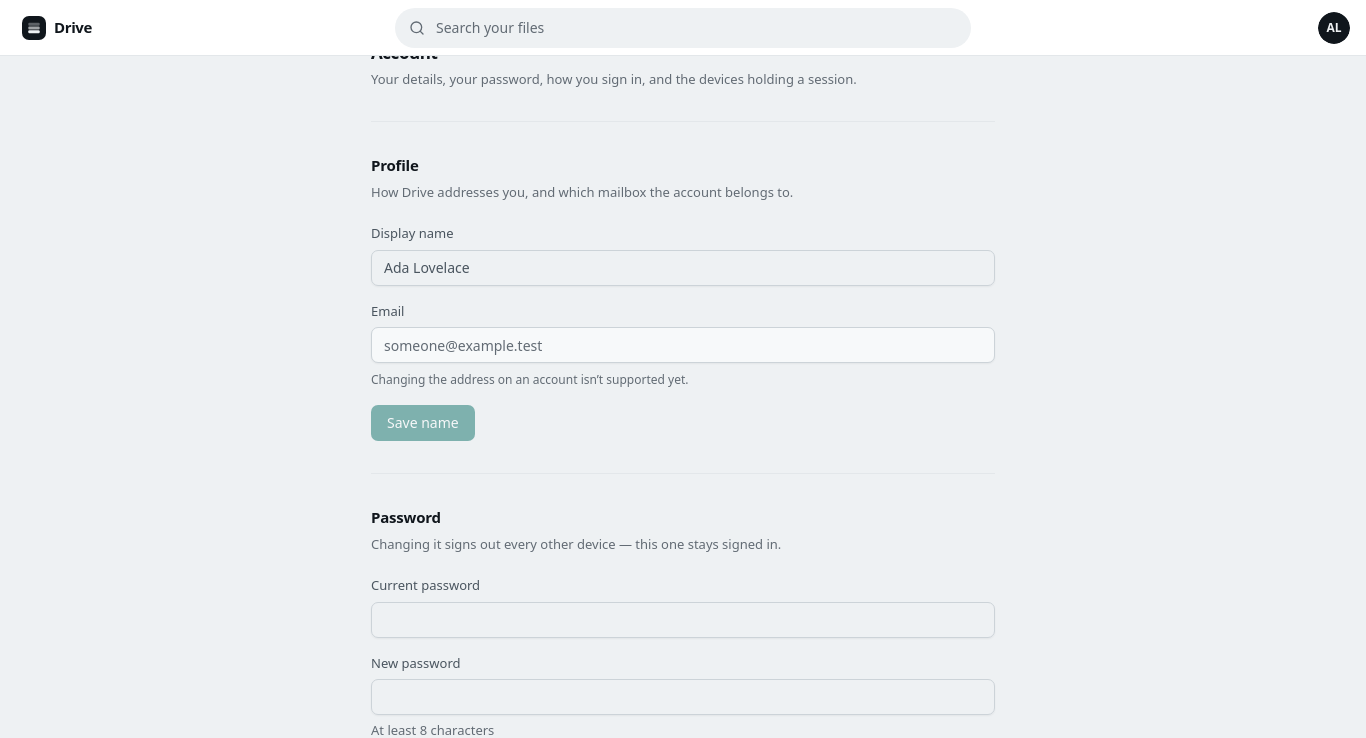
Test: the password section › empties the form and re-reads the sessions the change has just ended
Type "old-passphrase" into the password field labelled "Current password" at (683, 620), box x1=371 y1=602 x2=995 y2=638
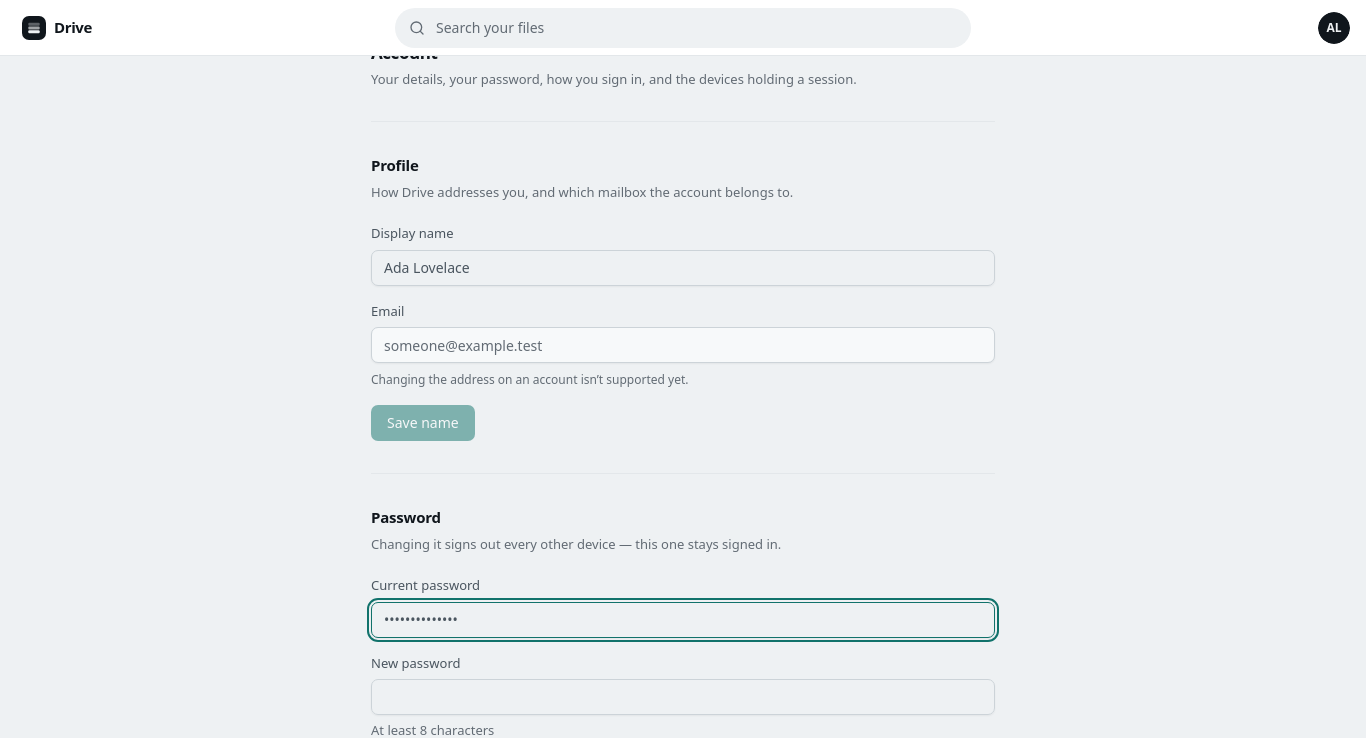
Type "new-passphrase" into the password field labelled "New password" at (683, 697), box x1=371 y1=679 x2=995 y2=715
(page scrolled)
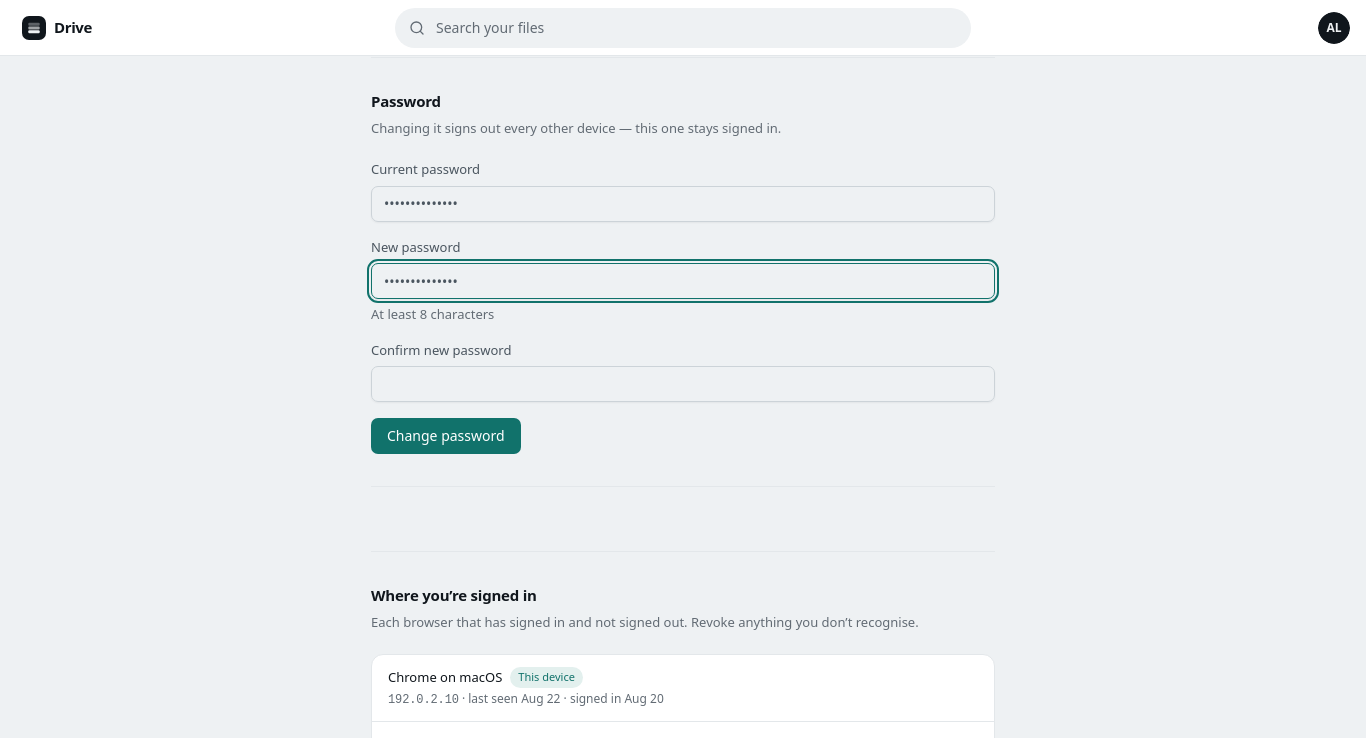
Type "new-passphrase" into the password field labelled "Confirm new password" at (683, 384), box x1=371 y1=366 x2=995 y2=402
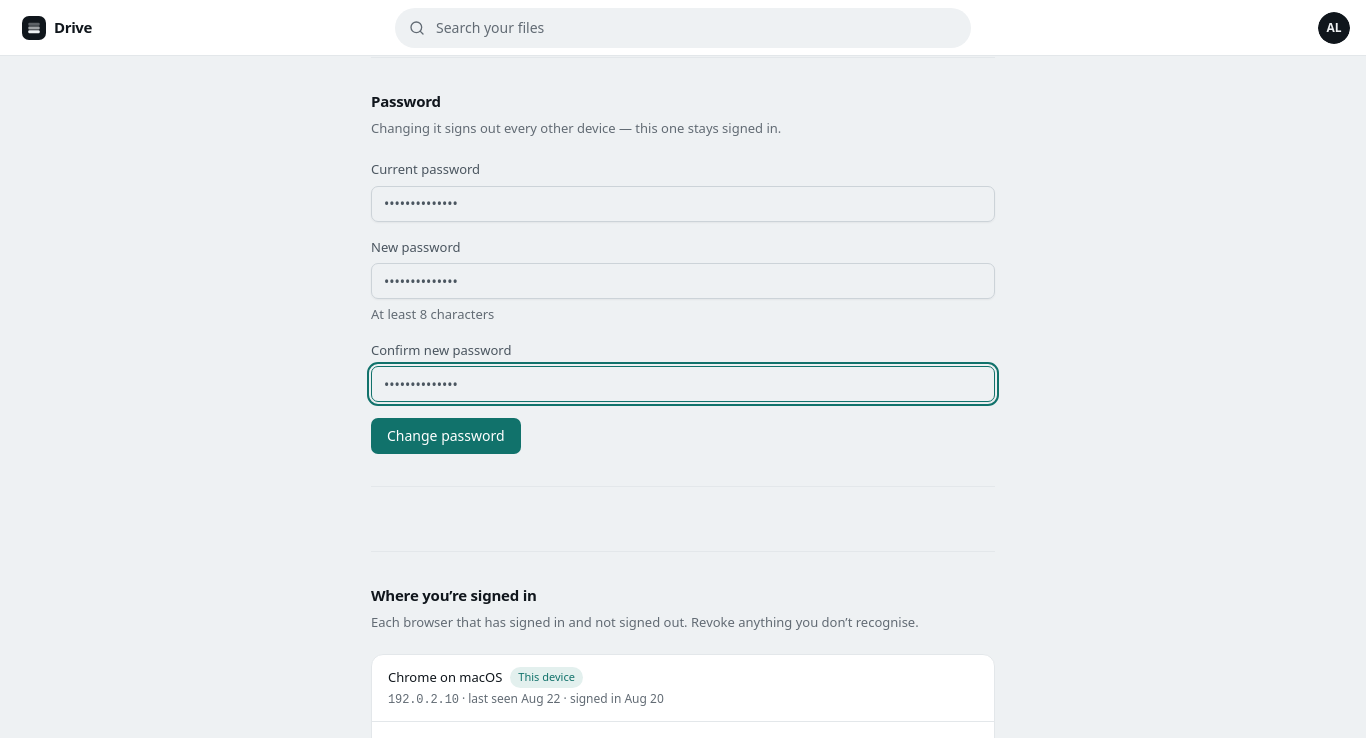
Click the button "Change password" at (446, 436), box x1=371 y1=418 x2=521 y2=454
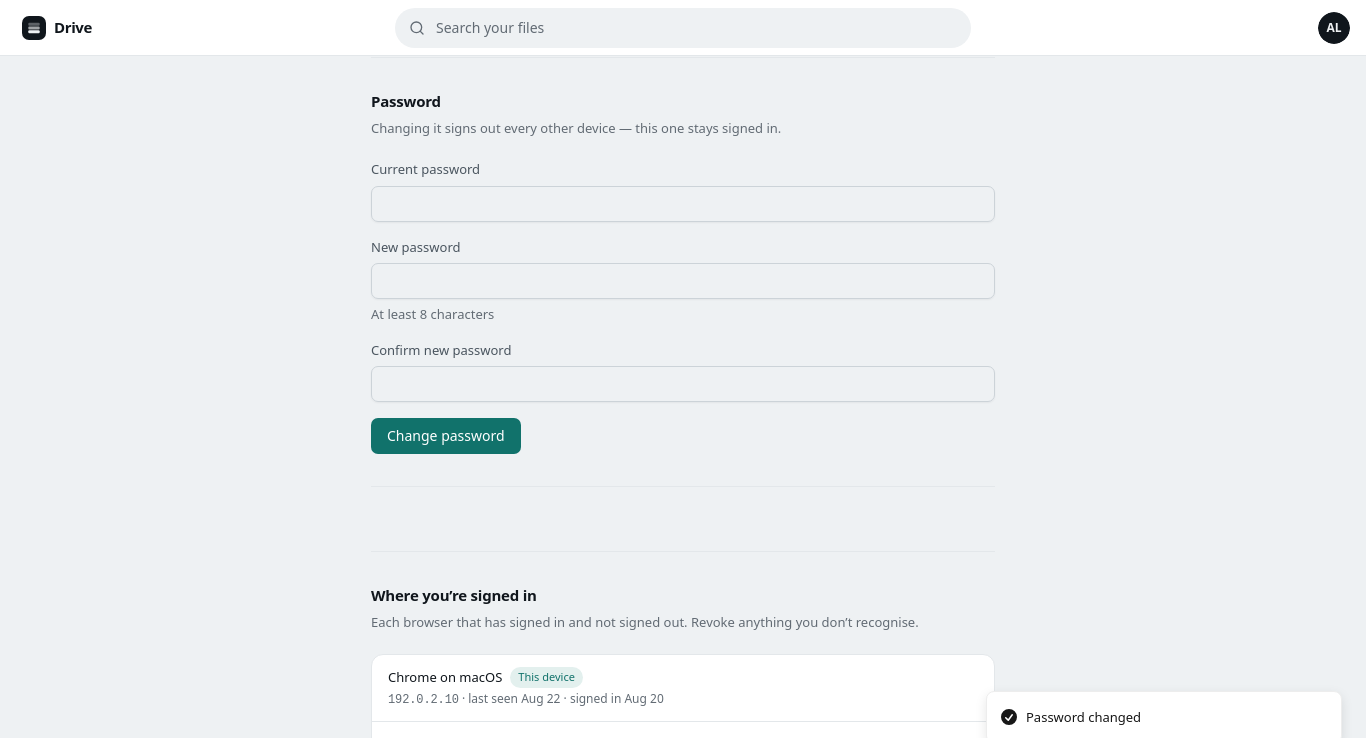
Expected: the text "Password changed" is shown, x1=1026 y1=708 x2=1141 y2=727
Expected: the password field labelled "Current password" is empty, x1=371 y1=186 x2=995 y2=222
Expected: the password field labelled "New password" is empty, x1=371 y1=263 x2=995 y2=299
